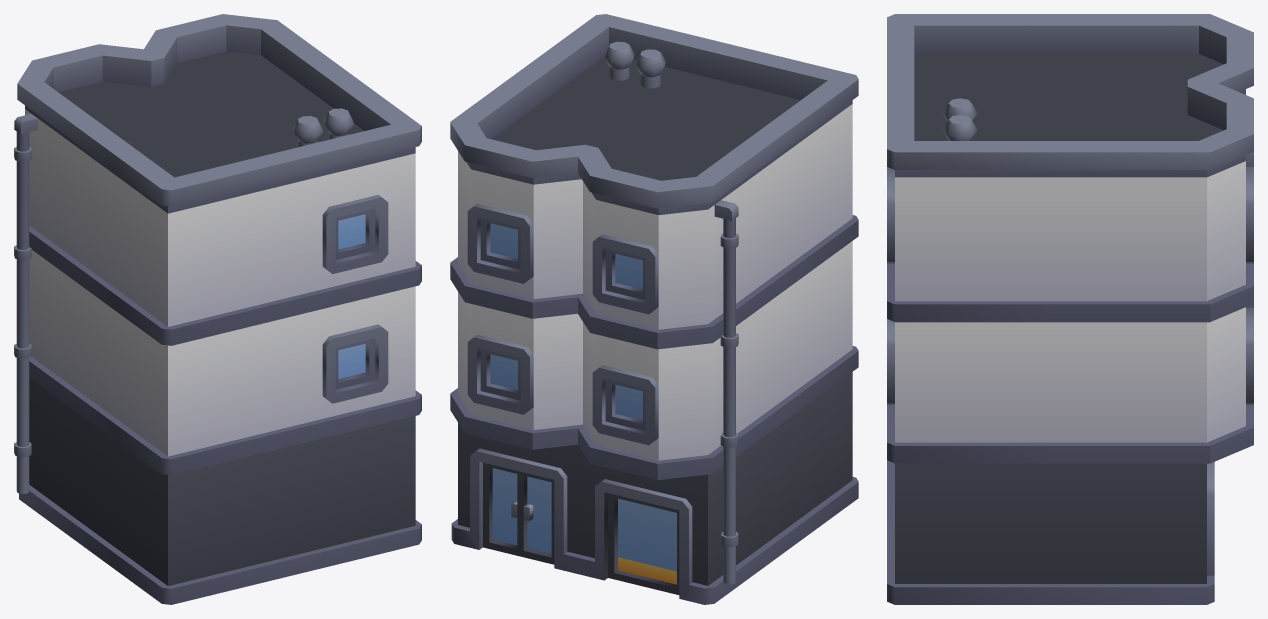
The model's file is k_c_building-a.glb.
3 views of the same model, side by side, from view 1: azimuth 30°, elevation 25°; view 2: azimuth 150°, elevation 25°; view 3: azimuth 270°, elevation 25° (orthographic). The views are drawn at different scales.
Parts seen in each view (by area): view 1: building-a; view 2: building-a; view 3: building-a.
Part boxes in pixels (left/top/right/bottom): building-a: left=14, top=14, right=421, bottom=604; building-a: left=450, top=14, right=858, bottom=604; building-a: left=887, top=14, right=1253, bottom=604.
Size of the model in its own units: 0.8836 by 1.29 by 0.94.
1 material, 1 textured.
